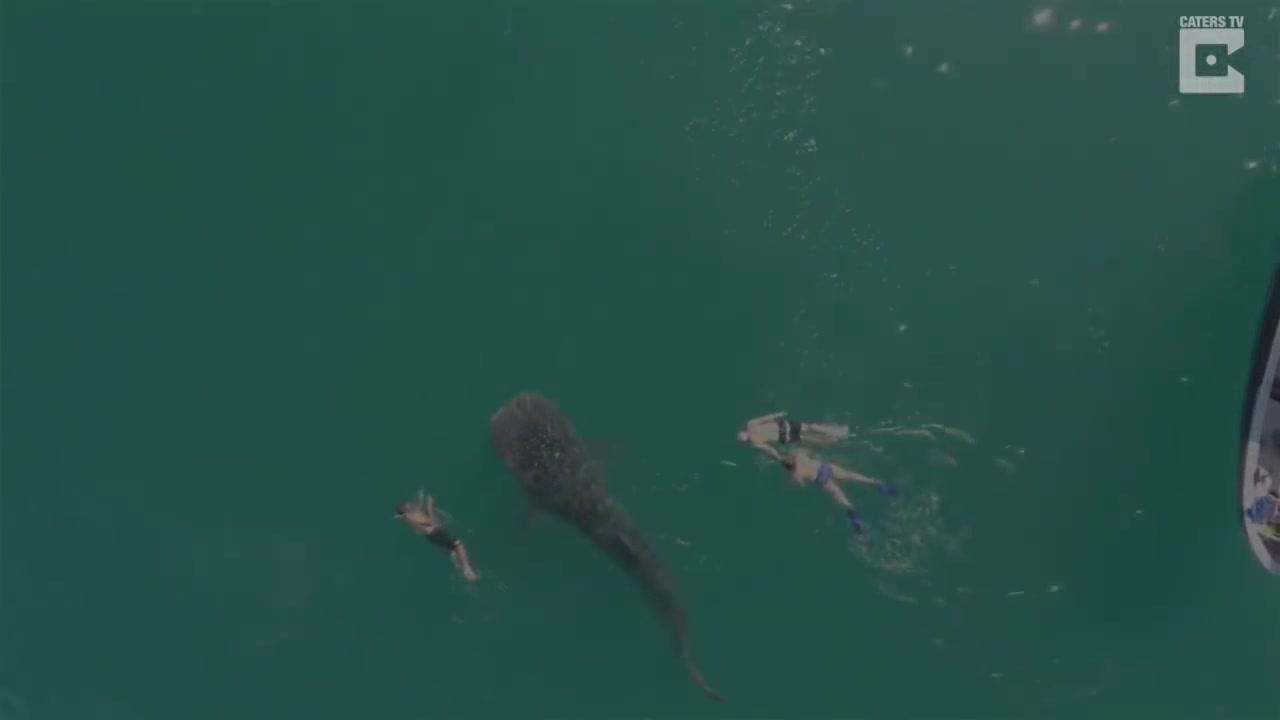human: (708, 375, 859, 468), (777, 443, 899, 549), (379, 503, 483, 598)
